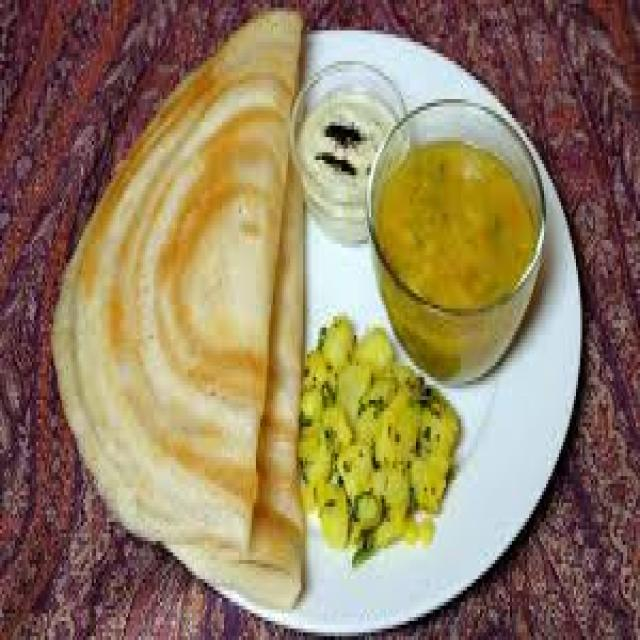DOSA: (65, 10, 301, 543), (199, 171, 305, 609)
